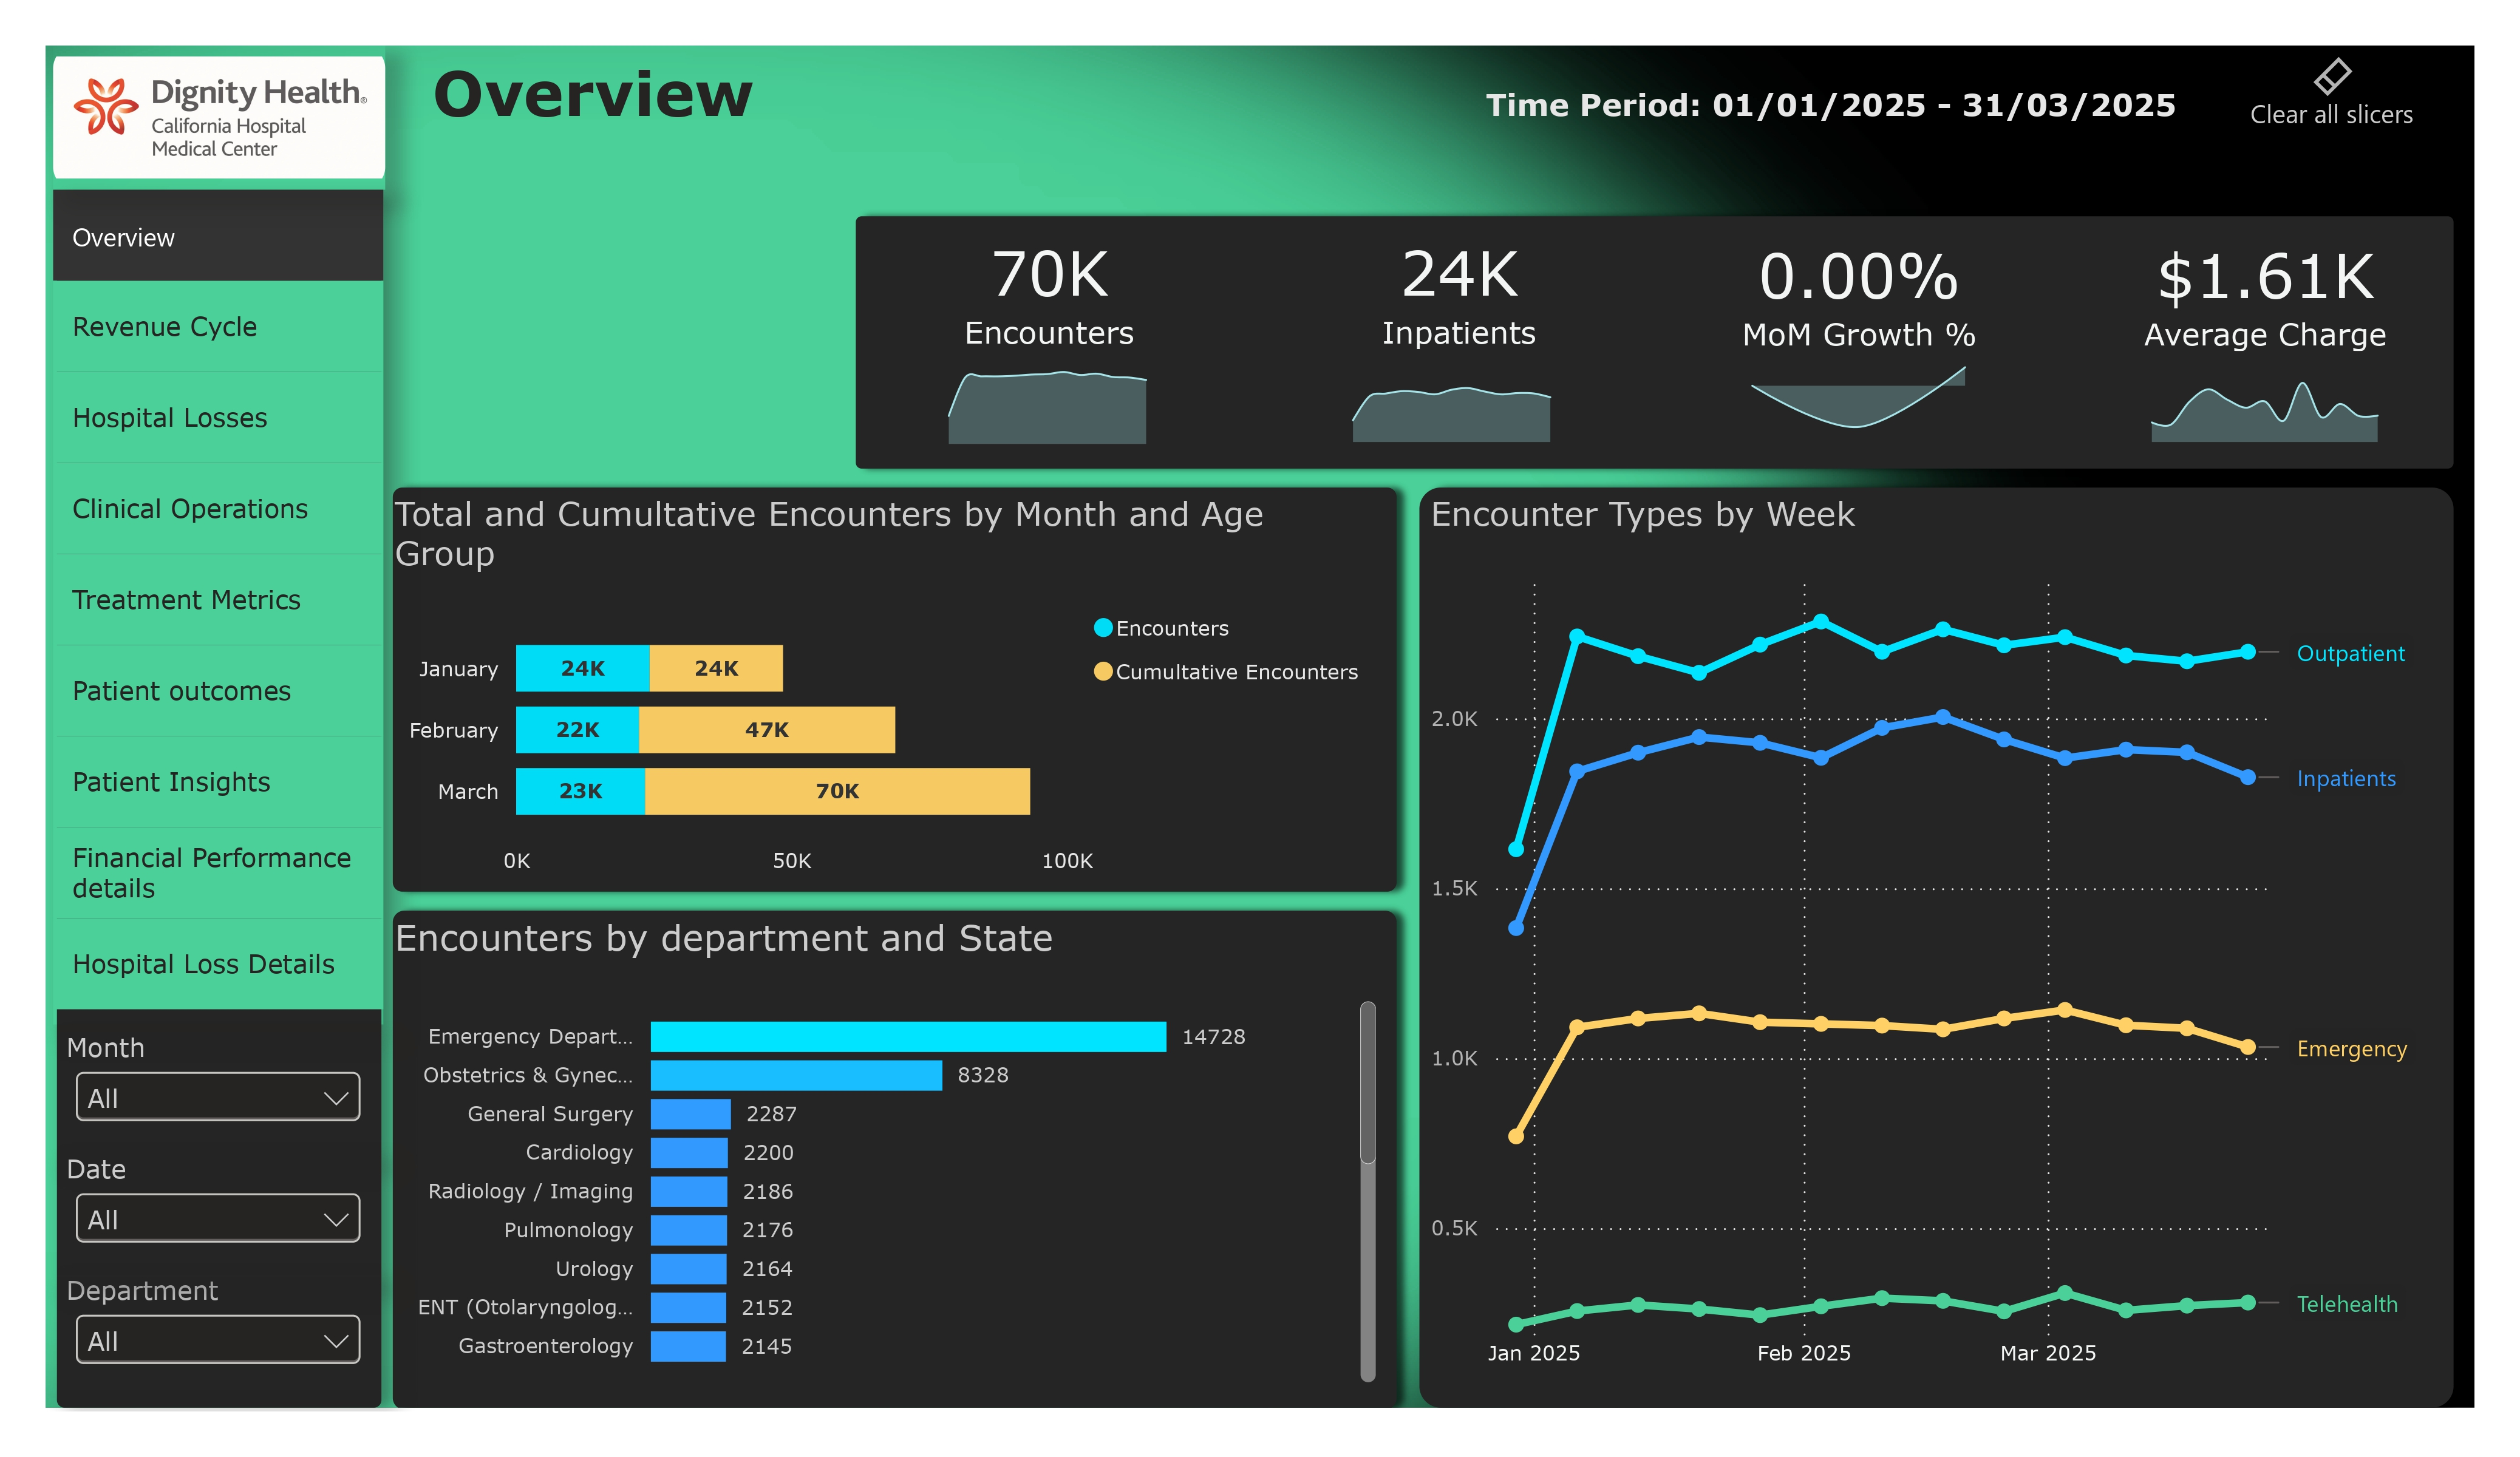

The dashboard page shown, as its layout file describes it:
{"tool":"powerbi","page":{"name":" Overview","canvas":[1280,720],"ordinal":0},"visuals":[{"type":"cardVisual","fields":{"Data":["_Measures.Inpatient Encounters"]},"box":[644.7,74.4,200.4,150],"z":0,"group":"g1"},{"type":"pageNavigator","box":[3.8,76.2,174,440],"z":0},{"type":"barChart","title":"Total and Cumultative Encounters by Month and Age Group","fields":{"Category":["Calendar.Month Name","Patients.Age Group"],"Y":["_Measures.Total Encounters","_Measures.Cumultative Encounters"]},"box":[178.8,236.2,527.5,210],"z":1000},{"type":"cardVisual","fields":{"Data":["_Measures.Average Charge per Encounter"]},"box":[1070,75,200,150],"z":2000,"group":"g1"},{"type":"slicer","title":"Department","fields":{"Values":["Encounters.department"]},"box":[6.3,647.8,170,61.2],"z":2000},{"type":"cardVisual","fields":{"Data":["_Measures.Total Encounters"]},"box":[429.1,74.5,200.2,150.4],"z":3000,"group":"g1"},{"type":"lineChart","title":"Encounter Types by Week","fields":{"Series":["Encounters.encounter_type"],"Y":["_Measures.Total Encounters"],"Category":["Calendar.Week Label"]},"box":[725.1,236.5,545.3,468.1],"z":3000},{"type":"barChart","title":"Encounters by department and State","fields":{"Category":["Encounters.department","Patients.state"],"Y":["_Measures.Total Encounters"]},"box":[178.8,457.5,527.5,252.5],"z":4000},{"type":"slicer","title":"Month","fields":{"Values":["Calendar.Month Name"]},"box":[6.3,520.3,170,64.1],"z":5000},{"type":"textbox","box":[198.8,0,931.2,50],"z":6000},{"type":"cardVisual","fields":{"Data":["_Measures.MoM Total Charges Growth %"]},"box":[856.2,75,200,150],"z":7000,"group":"g1"},{"type":"slicer","title":"Date","fields":{"Values":["Encounters.admission_date"]},"box":[6.3,584.4,170,64.1],"z":7000},{"type":"actionButton","box":[1130,0,150,50],"z":8000},{"type":"lineChart","fields":{"Category":["Calendar.Week Label"],"Y":["CountNonNull(Encounters.encounter_type)"]},"box":[673.7,153.2,134.6,61.4],"z":8000,"group":"g1"},{"type":"image","box":[3.8,0,175,76.2],"z":9000},{"type":"lineChart","fields":{"Category":["Calendar.Month Name"],"Y":["_Measures.MoM Total Charges Growth %"]},"box":[872.1,151.9,166.5,62.7],"z":9000,"group":"g1"},{"type":"lineChart","fields":{"Category":["Calendar.Week Label"],"Y":["_Measures.Total Encounters"]},"box":[461.2,153.8,134,61.2],"z":10000,"group":"g1"},{"type":"lineChart","fields":{"Category":["Calendar.Week Label"],"Y":["_Measures.Average Charge per Encounter"]},"box":[1094.6,153.1,149.6,61.5],"z":11000,"group":"g1"},{"type":"group","id":"g1","title":"Group 1","box":[429.1,74.4,840.9,150.6],"z":11001}]}

Visuals, with their boxes on the page's 1280x720 design canvas (x1, y1, x2, y2). These are canvas units, not pixel positions in the 2520x1457 screenshot, which may show the page scaled, cropped or inside an application window:
cardVisual - _Measures.Inpatient Encounters: 645, 74, 845, 224
pageNavigator: 4, 76, 178, 516
"Total and Cumultative Encounters by Month and Age Group" barChart: 179, 236, 706, 446
cardVisual - _Measures.Average Charge per Encounter: 1070, 75, 1270, 225
"Department" slicer: 6, 648, 176, 709
cardVisual - _Measures.Total Encounters: 429, 74, 629, 225
"Encounter Types by Week" lineChart: 725, 236, 1270, 705
"Encounters by department and State" barChart: 179, 458, 706, 710
"Month" slicer: 6, 520, 176, 584
textbox: 199, 0, 1130, 50
cardVisual - _Measures.MoM Total Charges Growth %: 856, 75, 1056, 225
"Date" slicer: 6, 584, 176, 648
actionButton: 1130, 0, 1280, 50
lineChart - Calendar.Week Label x CountNonNull(Encounters.encounter_type): 674, 153, 808, 215
image: 4, 0, 179, 76
lineChart - Calendar.Month Name x _Measures.MoM Total Charges Growth %: 872, 152, 1039, 215
lineChart - Calendar.Week Label x _Measures.Total Encounters: 461, 154, 595, 215
lineChart - Calendar.Week Label x _Measures.Average Charge per Encounter: 1095, 153, 1244, 215
"Group 1" group: 429, 74, 1270, 225
